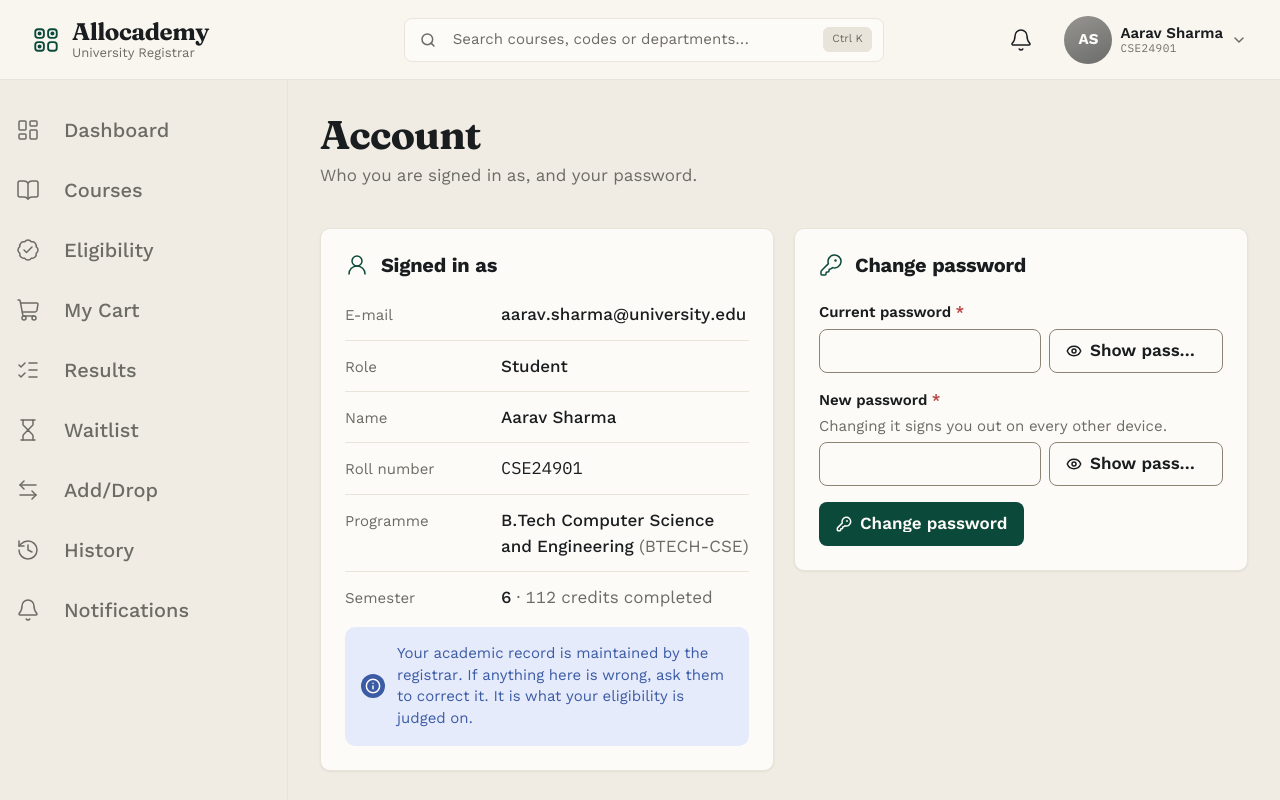
it: AccountPage › reports a failure with no field in the page alert
The image size is (1280, 800).
Check: the heading "Account" is shown, box [320,110,480,159]
Type "currentpassword1" into the password field labelled "Current password".
click(930, 351); type("currentpassword1")  # box [819,329,1041,373]
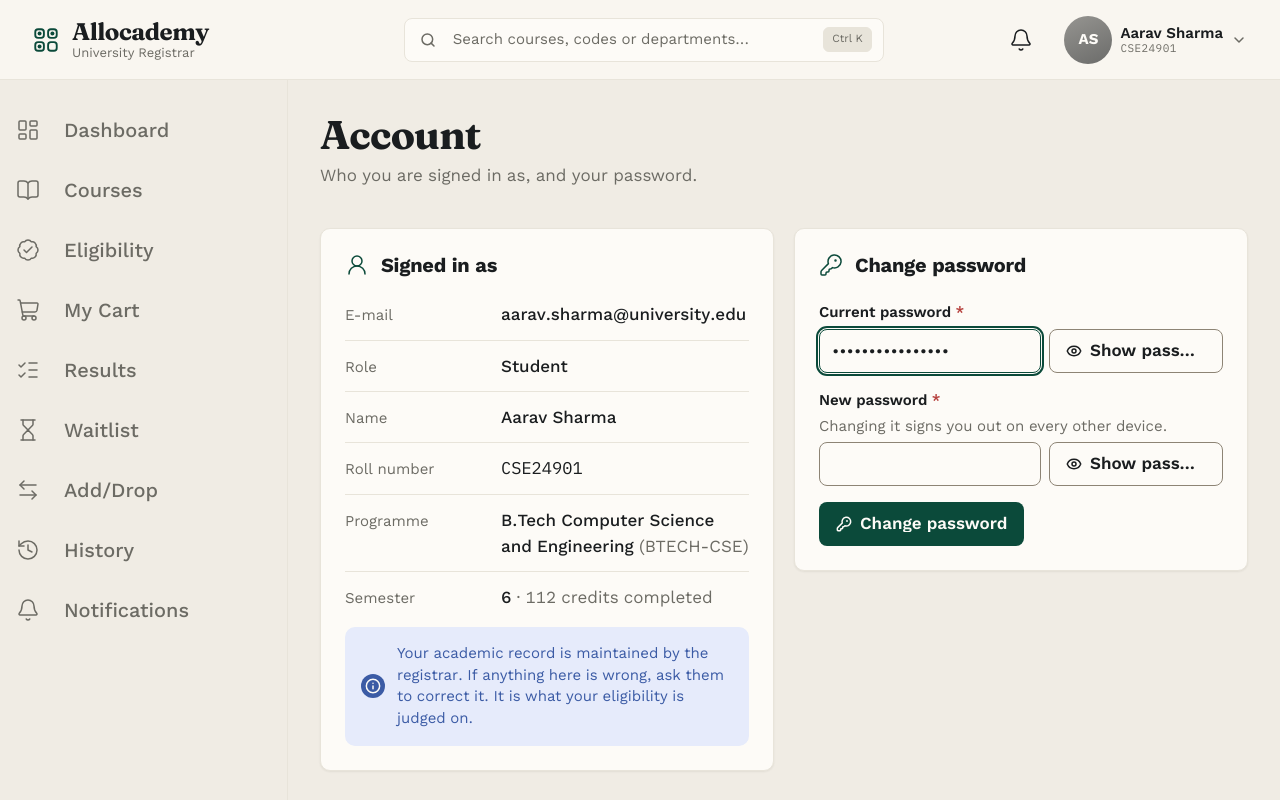
Type "correcthorsebatterystaple" into the password field labelled "New password".
click(930, 464); type("correcthorsebatterystaple")  # box [819,442,1041,486]
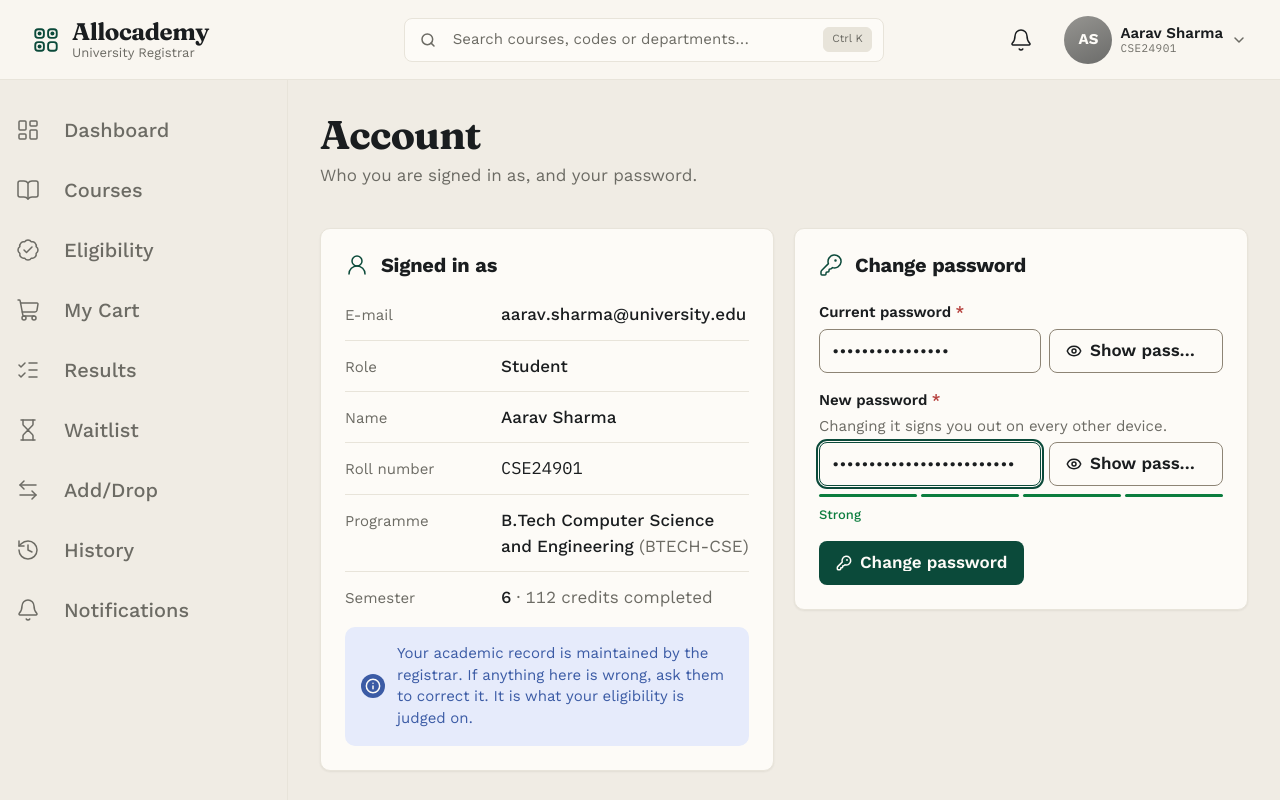
Click the button "Change password".
click(922, 563)  # box [819,541,1024,585]
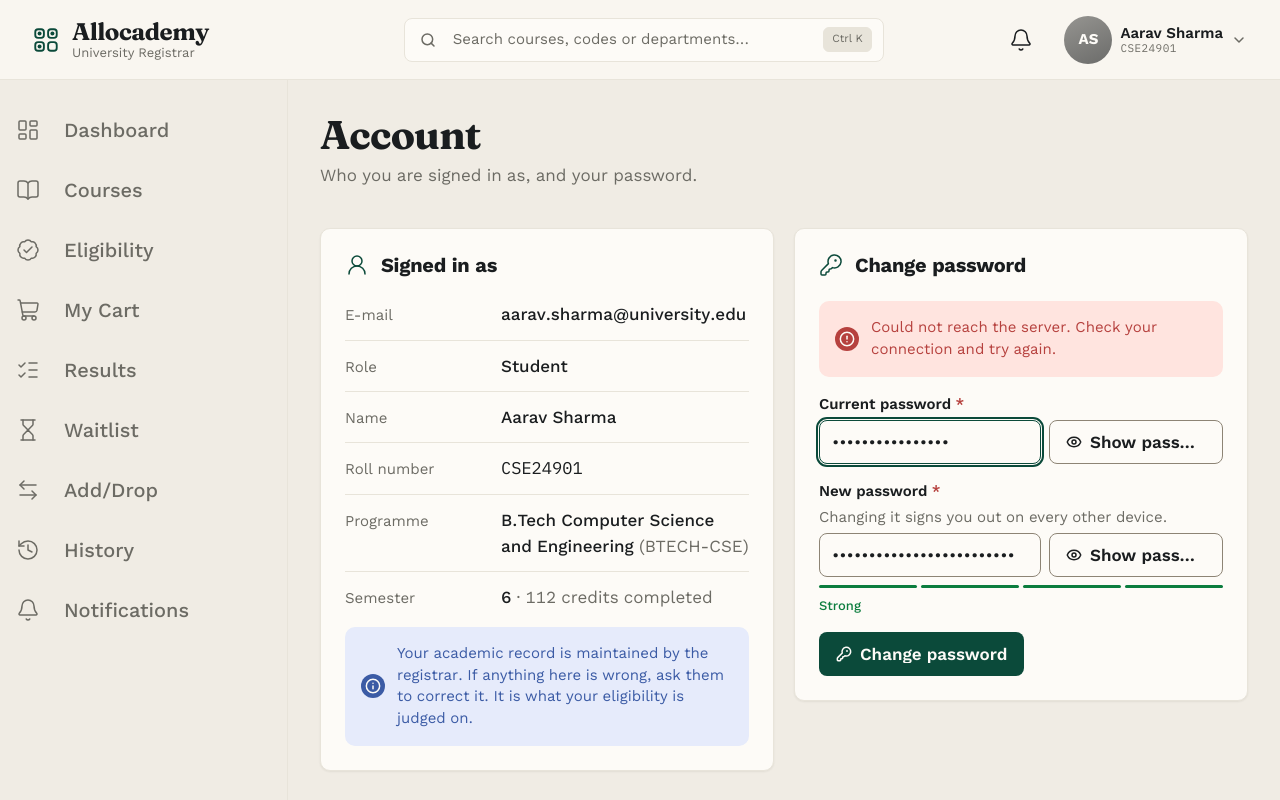
Check: the message shows "Could not reach the server", box [871,318,1157,358]
